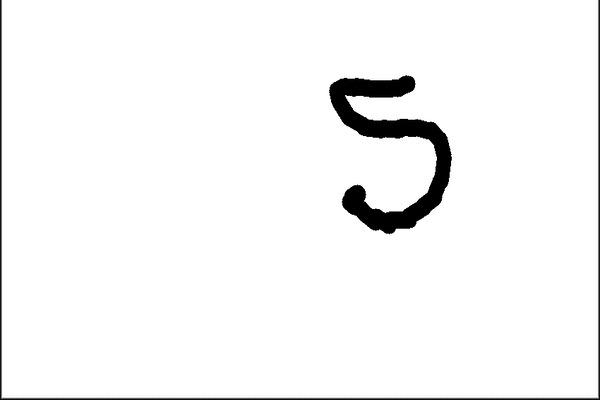S: (312, 67, 457, 238)
